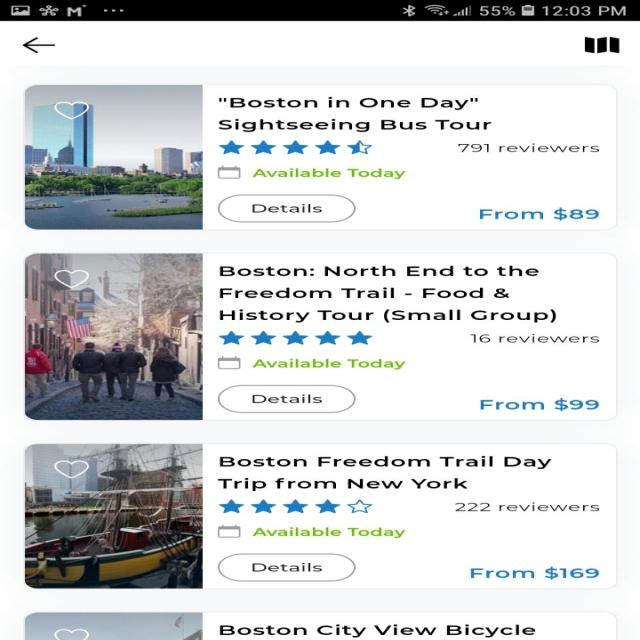Icon: (217, 330, 372, 345), (218, 499, 372, 513), (218, 140, 372, 154), (583, 36, 620, 54), (53, 460, 88, 478), (54, 270, 89, 288), (53, 102, 88, 120), (22, 37, 56, 54), (55, 628, 89, 640), (217, 356, 241, 370), (217, 165, 241, 179), (218, 524, 241, 537)
Image: (25, 254, 203, 420), (25, 85, 203, 229), (26, 444, 202, 588), (25, 612, 202, 639)
Text: (218, 265, 556, 323), (217, 456, 550, 491), (218, 96, 492, 132), (218, 624, 536, 638), (252, 526, 404, 538), (252, 167, 404, 179), (470, 565, 598, 579), (252, 358, 406, 369), (479, 398, 599, 411), (479, 208, 598, 220), (454, 502, 599, 511), (458, 143, 600, 152), (469, 333, 598, 342)
TextButton: (217, 384, 355, 413), (217, 194, 355, 223), (217, 553, 355, 581)
